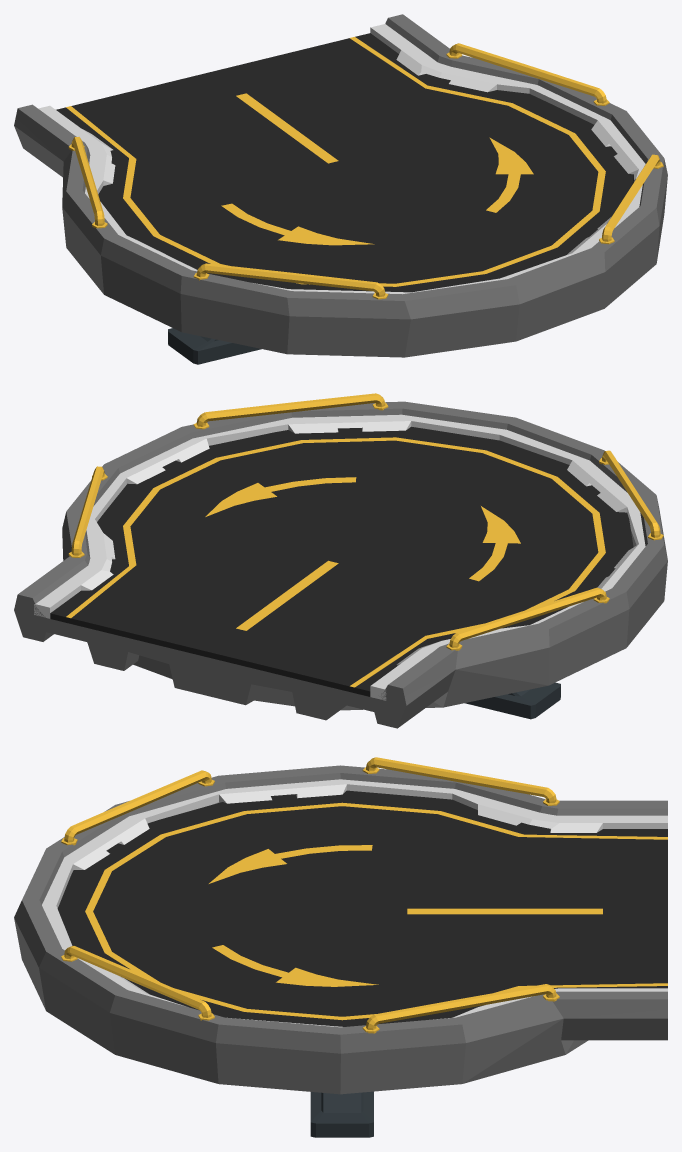
File: U_road.glb
3 views of the same model, one above another, from view 1: azimuth 30°, elevation 25°; view 2: azimuth 150°, elevation 25°; view 3: azimuth 270°, elevation 25° (orthographic). The views are drawn at different scales.
Visible parts, largest first — view 1: DIAOTOU, 立方体.010, 立方体.008, 柱体.001, 平面.004, 立方体.009, 平面.010, 平面.012, 平面.003; view 2: DIAOTOU, 立方体.010, 立方体.008, 柱体.001, 平面.004, 立方体.009, 平面.012, 平面.010, 平面.003; view 3: DIAOTOU, 立方体.010, 立方体.008, 柱体.001, 平面.004, 立方体.009, 平面.012, 平面.010, 平面.003.
Part boxes in pixels (bbox=[...]): DIAOTOU: bbox=[56, 33, 633, 292]; 立方体.010: bbox=[14, 14, 667, 357]; 立方体.008: bbox=[38, 24, 645, 294]; 柱体.001: bbox=[68, 43, 663, 299]; 平面.004: bbox=[66, 37, 605, 286]; 立方体.009: bbox=[168, 328, 261, 364]; 平面.010: bbox=[221, 203, 374, 245]; 平面.012: bbox=[486, 137, 533, 212]; 平面.003: bbox=[236, 93, 338, 163]; DIAOTOU: bbox=[50, 426, 633, 696]; 立方体.010: bbox=[14, 401, 667, 728]; 立方体.008: bbox=[34, 414, 645, 700]; 柱体.001: bbox=[68, 393, 663, 650]; 平面.004: bbox=[66, 437, 605, 687]; 立方体.009: bbox=[465, 682, 560, 719]; 平面.012: bbox=[205, 477, 356, 516]; 平面.010: bbox=[469, 506, 520, 581]; 平面.003: bbox=[236, 560, 338, 630]; DIAOTOU: bbox=[57, 790, 667, 1026]; 立方体.010: bbox=[14, 765, 667, 1094]; 立方体.008: bbox=[42, 779, 667, 1027]; 柱体.001: bbox=[61, 757, 559, 1033]; 平面.004: bbox=[85, 802, 667, 1020]; 立方体.009: bbox=[310, 1091, 373, 1137]; 平面.012: bbox=[212, 945, 378, 986]; 平面.010: bbox=[209, 845, 372, 883]; 平面.003: bbox=[407, 908, 602, 914].
Bounding box in the file's own units: 9.9 × 2.65 × 10.04.
